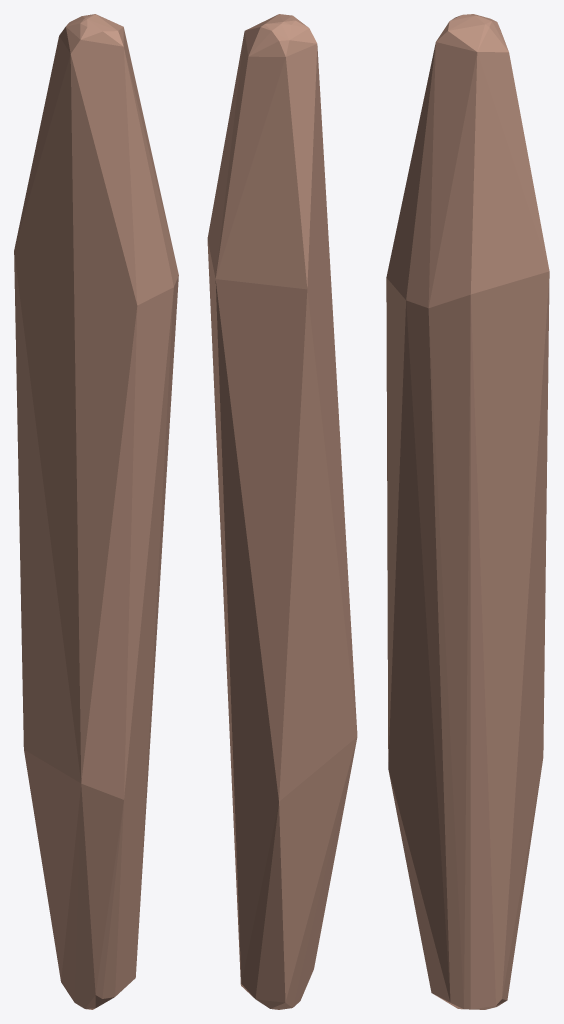
File: kitchenware_rollingPin_f01.glb
3 views of the same model, side by side, from view 1: azimuth 30°, elevation 25°; view 2: azimuth 150°, elevation 25°; view 3: azimuth 270°, elevation 25° (orthographic).
Visible parts, largest first — view 1: geometry_0; view 2: geometry_0; view 3: geometry_0.
Part boxes in pixels (x1,y1,x2,y2): geometry_0: (14,14,178,1009); geometry_0: (207,14,357,1009); geometry_0: (386,14,549,1009).
Bounding box in the file's own units: 0.0644 × 0.4786 × 0.0712.
